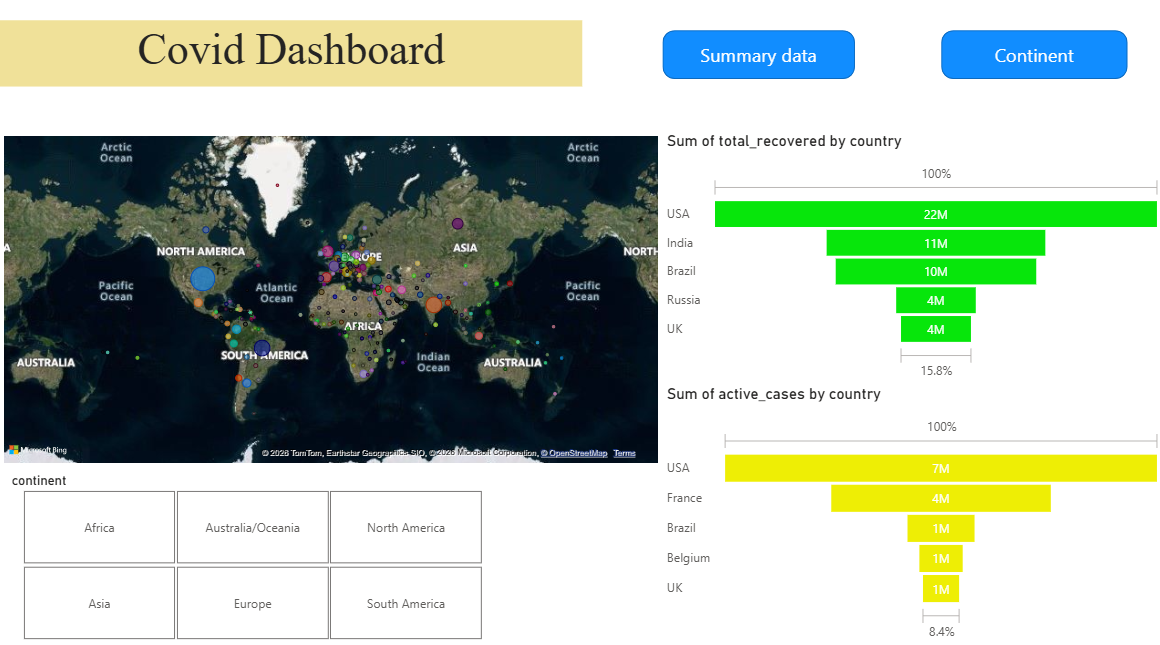

What the dashboard file says about the page in this screenshot:
{"tool":"powerbi","page":{"name":"Country","canvas":[1280,720],"ordinal":2},"visuals":[{"type":"map","fields":{"Size":["Sum(daily_data.daily_new_cases)"],"Category":["summary_data.country"],"Series":["summary_data.country"]},"box":[0,156.4,727.3,369.1],"z":0},{"type":"funnel","fields":{"Category":["summary_data.country"],"Y":["Sum(summary_data.total_recovered)"]},"box":[727.3,156.4,553,277.2],"z":1000},{"type":"funnel","fields":{"Category":["summary_data.country"],"Y":["Sum(summary_data.active_cases)"]},"box":[727.3,433.6,553,286.8],"z":2000},{"type":"slicer","fields":{"Values":["summary_data.continent"]},"box":[0,525.6,553,194.9],"z":3000},{"type":"shape","box":[727.3,45.3,211.3,53.5],"z":3001},{"type":"shape","box":[1033.3,45.3,204.5,53.5],"z":3002},{"type":"textbox","box":[0,34.3,639.5,72.7],"z":3004}]}

Visuals, with their boxes in screenshot pixels (x1, y1, x2, y2), scaled from the page's 1280x720 canvas onto the 1160x645 screenshot:
map - Sum(daily_data.daily_new_cases) x summary_data.country: select_region(0, 140, 659, 471)
funnel - summary_data.country x Sum(summary_data.total_recovered): select_region(659, 140, 1159, 388)
funnel - summary_data.country x Sum(summary_data.active_cases): select_region(659, 388, 1159, 644)
slicer - summary_data.continent: select_region(0, 471, 501, 644)
shape: select_region(659, 41, 851, 89)
shape: select_region(936, 41, 1122, 89)
textbox: select_region(0, 31, 580, 96)
